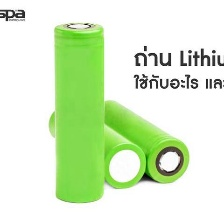battery: (52, 17, 106, 206), (45, 106, 152, 199), (100, 95, 190, 187)
